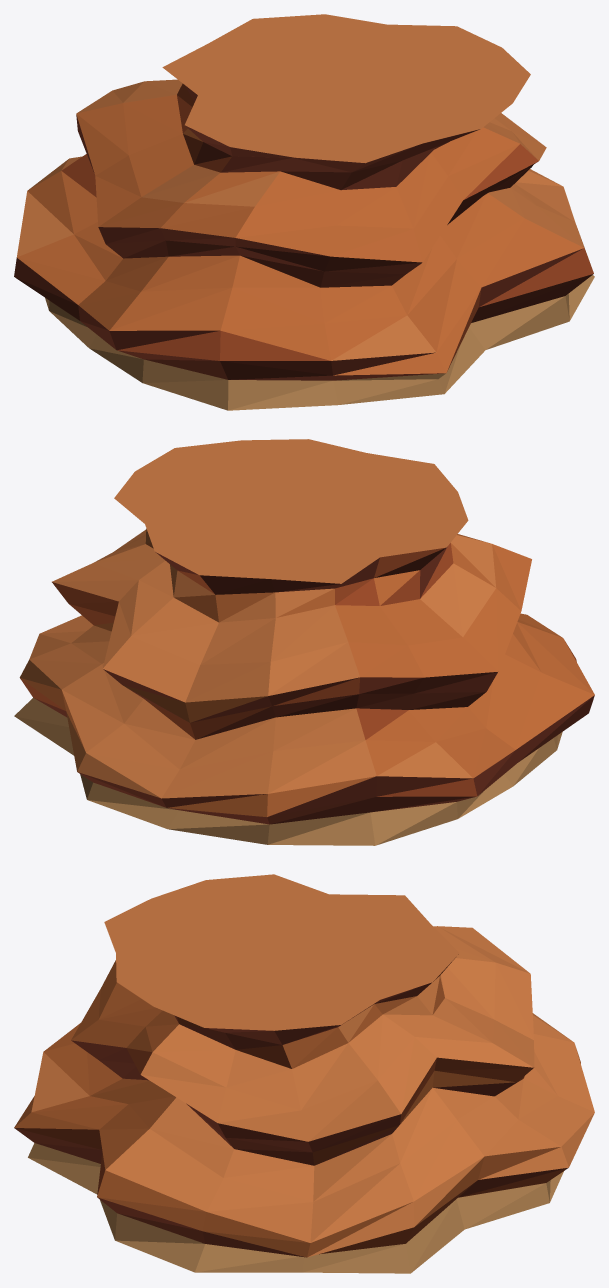
Rendered from rockF.glb.
The picture shows the model from 3 angles, top to bottom: view 1: azimuth 30°, elevation 25°; view 2: azimuth 150°, elevation 25°; view 3: azimuth 270°, elevation 25°; orthographic projection. The views are drawn at different scales.
Parts seen in each view (by area): view 1: RedRockKitF; view 2: RedRockKitF; view 3: RedRockKitF.
Boxes of the visible parts, bbox=[...] form: RedRockKitF: bbox=[14, 14, 594, 410]; RedRockKitF: bbox=[14, 439, 594, 845]; RedRockKitF: bbox=[14, 874, 594, 1273].
Size of the model in its own units: 4.25 by 1.7 by 4.16.
